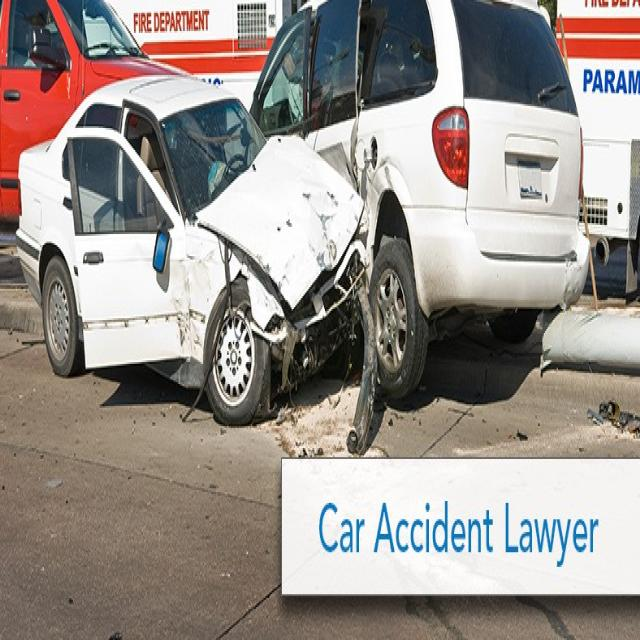crush: (152, 117, 377, 450), (299, 0, 391, 293)
